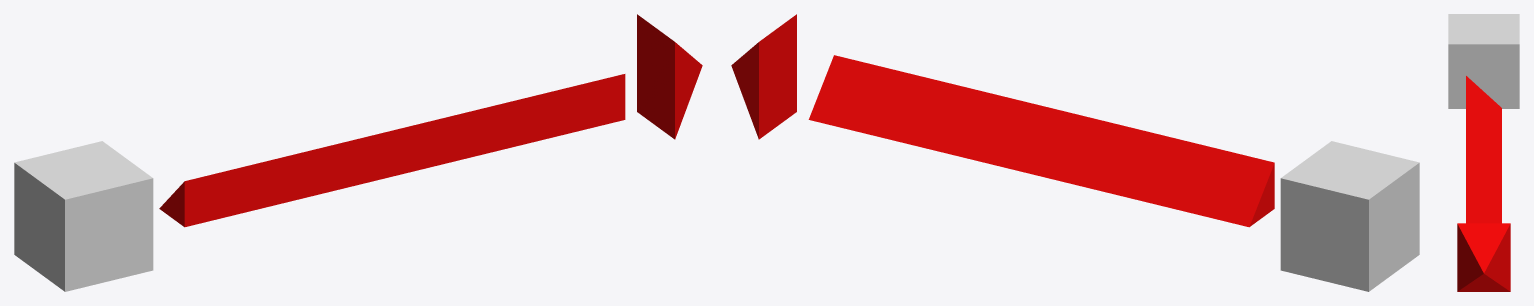
The model's file is Force.fbx.
3 renders of one model, left to right at view 1: azimuth 30°, elevation 25°; view 2: azimuth 150°, elevation 25°; view 3: azimuth 270°, elevation 25°, orthographic. The views are drawn at different scales.
Visible parts, largest first — view 1: Axis; view 2: Axis; view 3: Axis.
Part boxes in pixels (x1,y1,x2,y2): Axis: (14, 14, 702, 291); Axis: (731, 14, 1419, 291); Axis: (1448, 14, 1519, 291).
Bounding box in the file's own units: 301 × 42.43 × 40.
